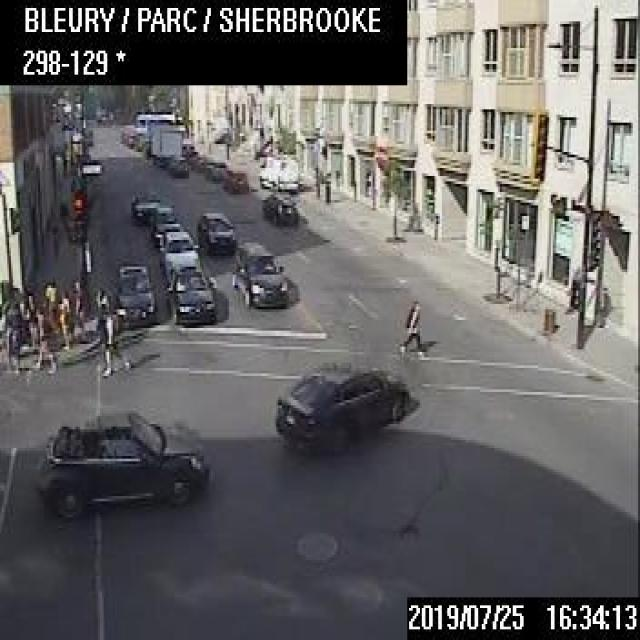pedestrian: (96, 294, 129, 376), (32, 302, 56, 372), (398, 296, 424, 353), (72, 276, 88, 339), (57, 289, 70, 348), (42, 274, 56, 327)
vehicle: (39, 408, 207, 518), (274, 358, 408, 453), (230, 240, 286, 306), (111, 261, 155, 325), (164, 268, 215, 322), (157, 229, 199, 276), (194, 210, 234, 254), (257, 152, 297, 192), (149, 123, 182, 165), (147, 204, 179, 244), (259, 192, 296, 222), (129, 188, 159, 221), (222, 169, 248, 192), (166, 154, 188, 176), (204, 159, 225, 179)
